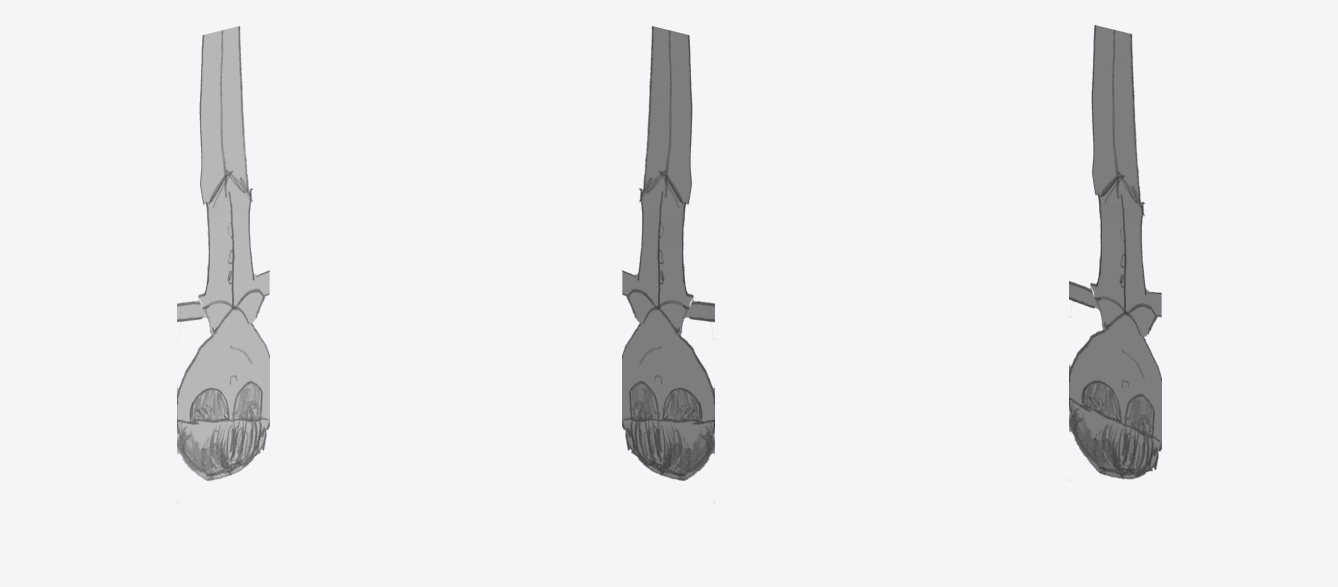
File: puppet_10.glb
3 renders of one model, left to right at view 1: azimuth 30°, elevation 25°; view 2: azimuth 150°, elevation 25°; view 3: azimuth 330°, elevation 25°, orthographic.
Bounding box in the file's own units: 1.14 × 1.39 × 0.00137.
1 material, 1 textured.
